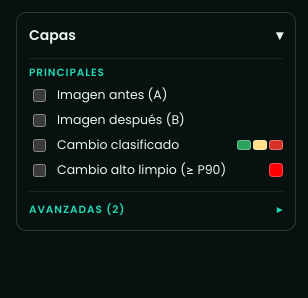
LayerPanel › groups layers: main visible, advanced collapsed until opened
Check: the text "Principales" is shown, box [29,65,105,80]
Check: the text "Imagen después (B)" is shown, box [57,111,185,128]
Click the text "Avanzadas (2)" at (77, 210), box [29,202,125,218]
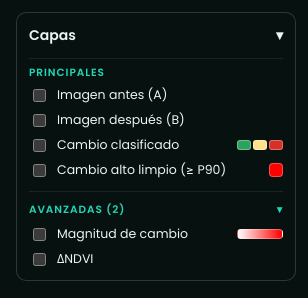
Check: the text "Magnitud de cambio" is shown, box [57,225,188,242]
Check: the text "ΔNDVI" is shown, box [57,250,93,267]
